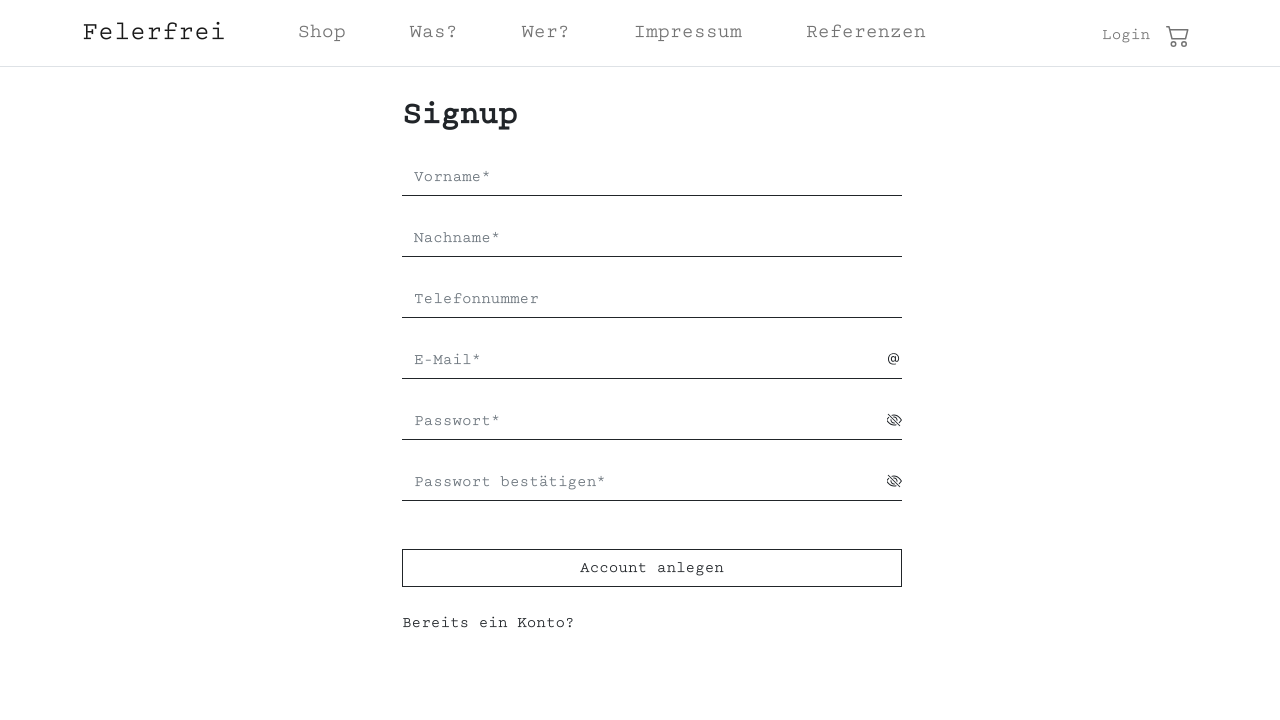
Test: Signup › signup#4 Can not sign in if firstname is empty
In the field with placeholder "Nachname*": [652, 239] box [402, 220, 902, 257], type "Mustermann"
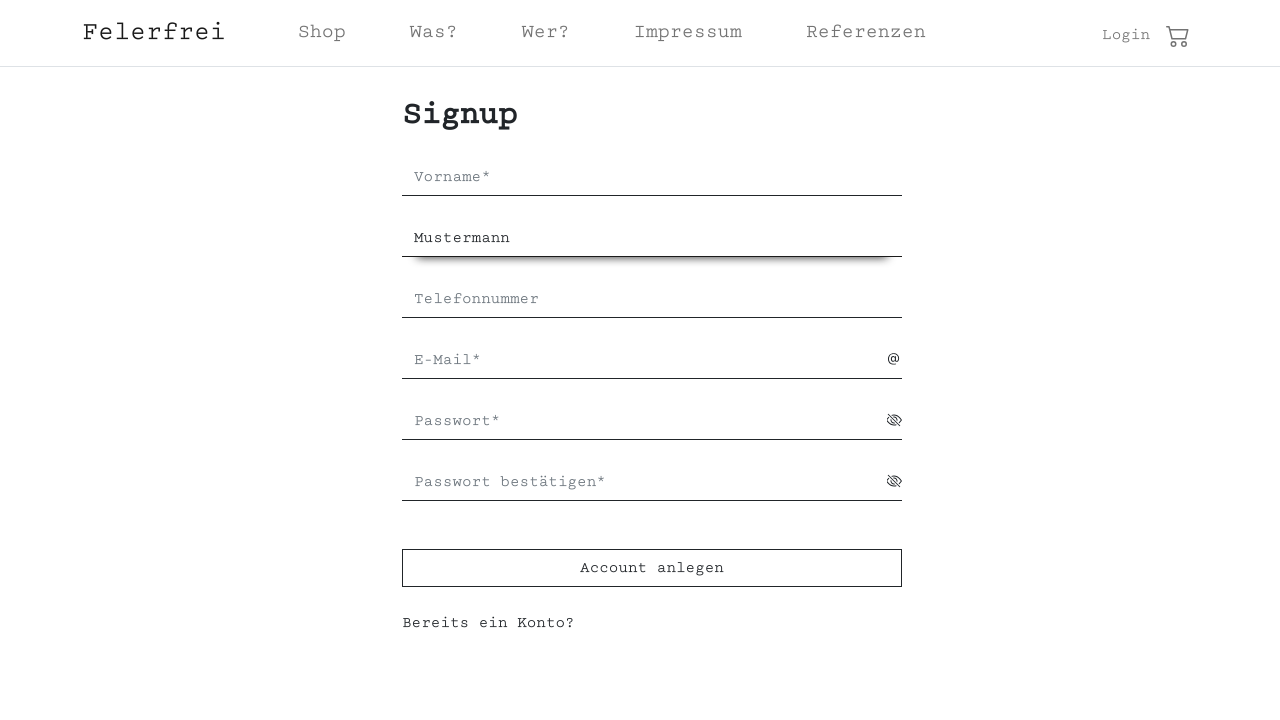
In the field with placeholder "Telefonnummer": [652, 300] box [402, 281, 902, 318], type "0123456789"
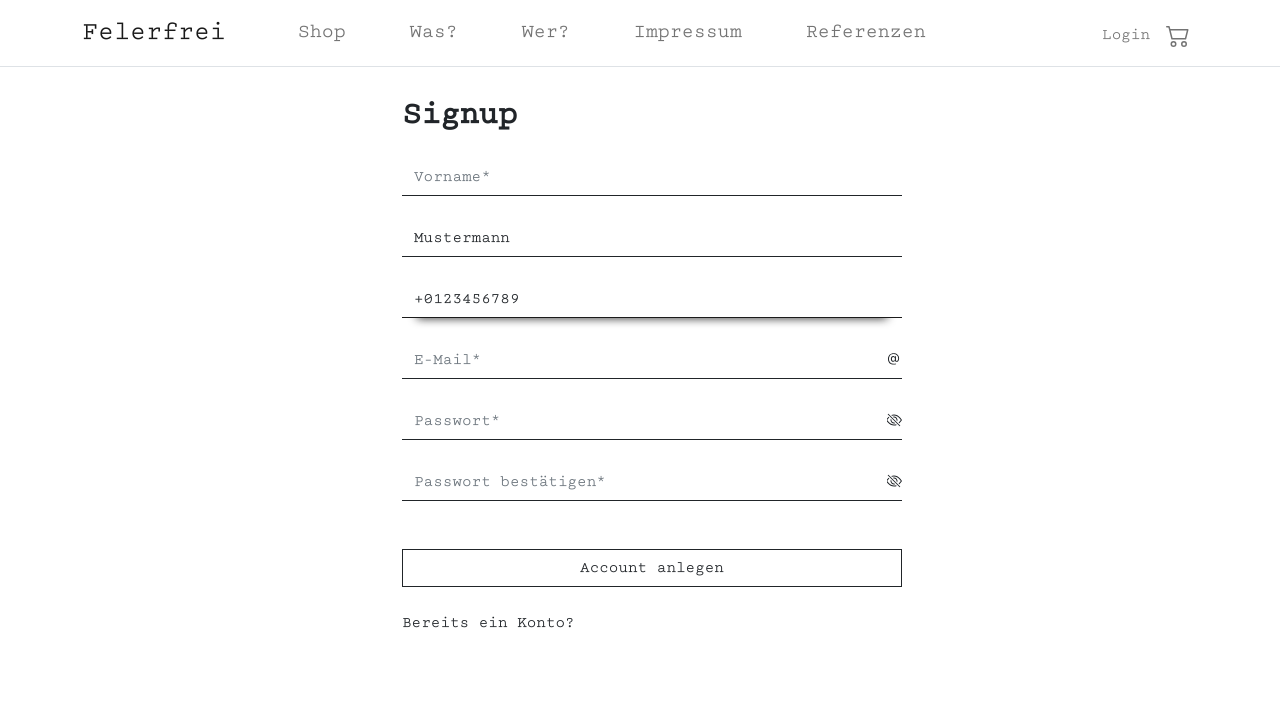
In the field with placeholder "E-Mail*": [645, 361] box [402, 342, 887, 379], type "max.mustermann@gmail.com"
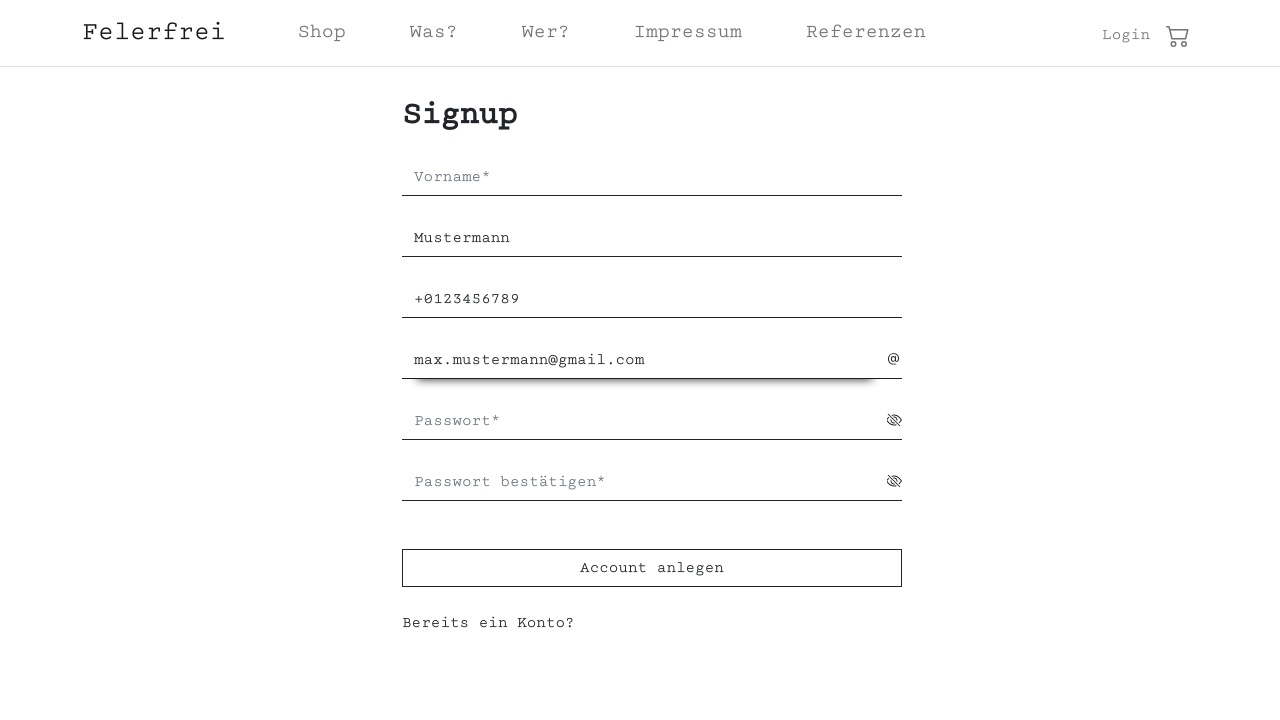
In the password field with placeholder "Passwort*": [645, 422] box [402, 403, 887, 440], type "!Passwort123"
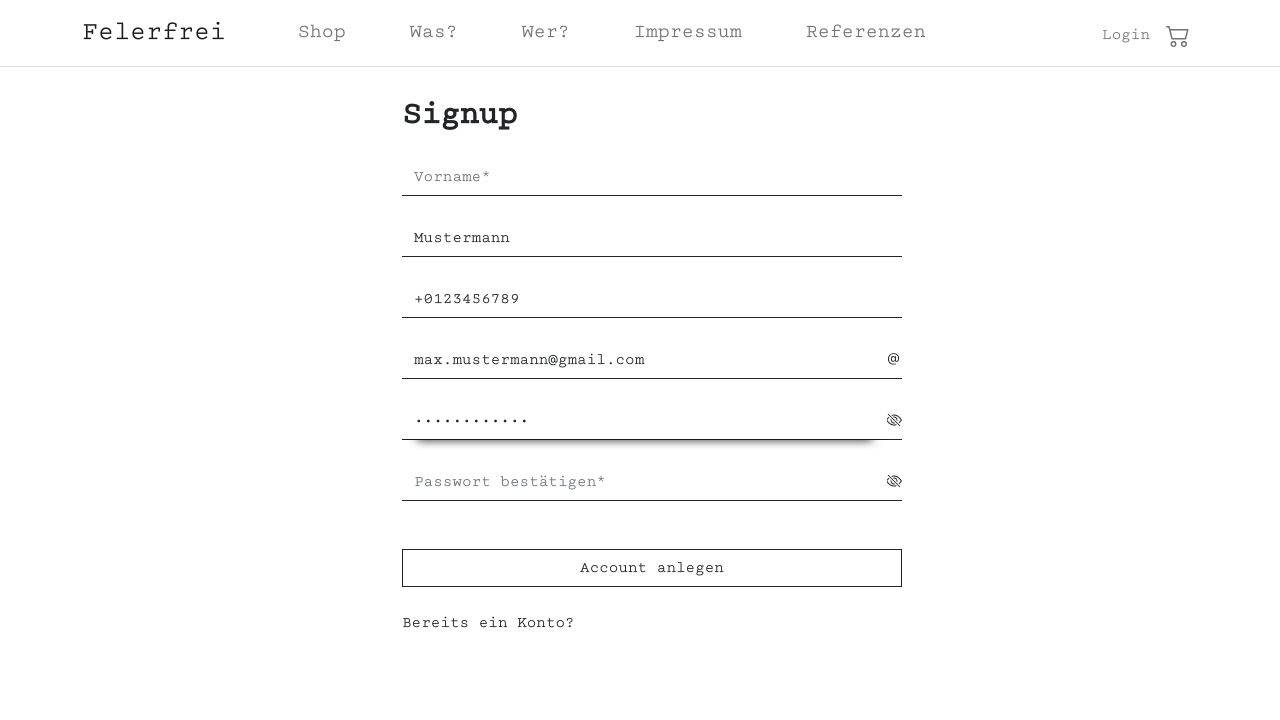
In the password field with placeholder "Passwort bestätigen*": [645, 483] box [402, 464, 887, 501], type "!Passwort123"
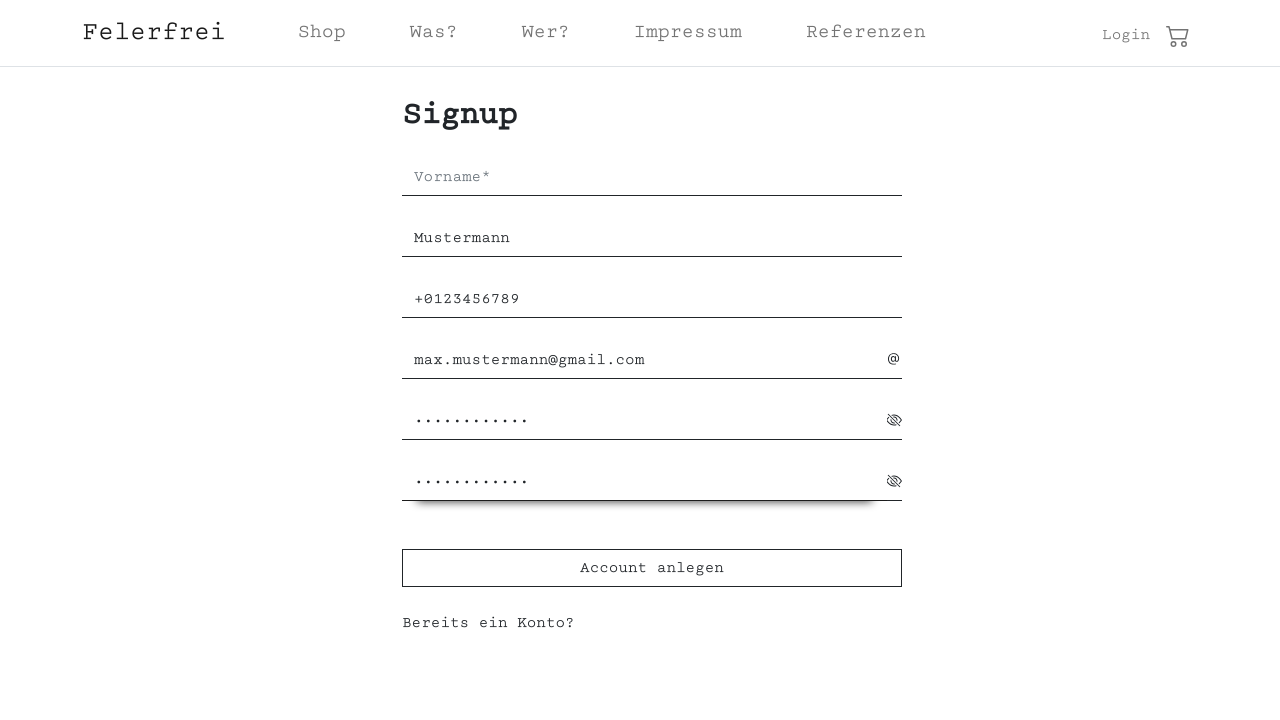
Click the button "Account anlegen": [652, 568] box [402, 549, 902, 587]
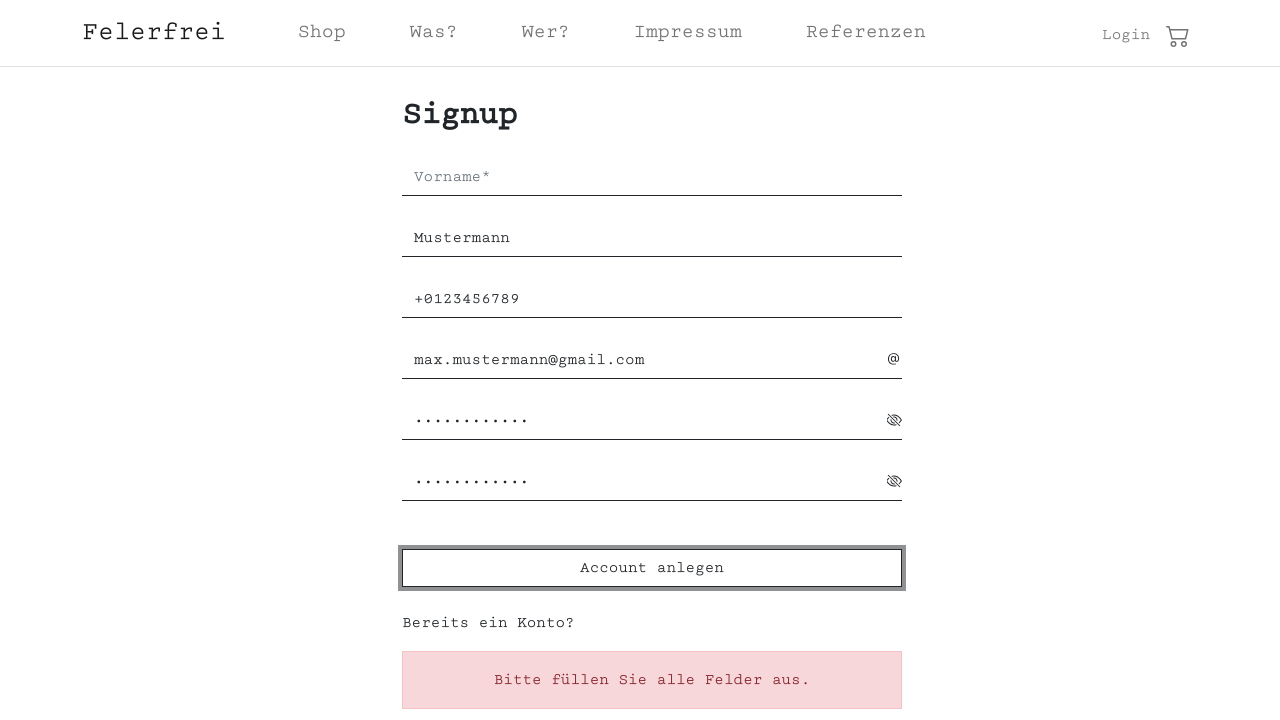
Check: the text "Bitte füllen Sie alle Felder aus" is shown, box [494, 673, 811, 687]
